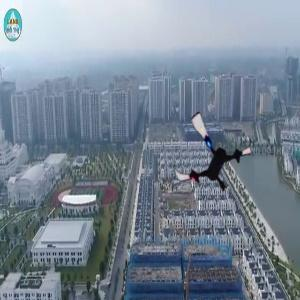drone: (168, 111, 257, 200)
